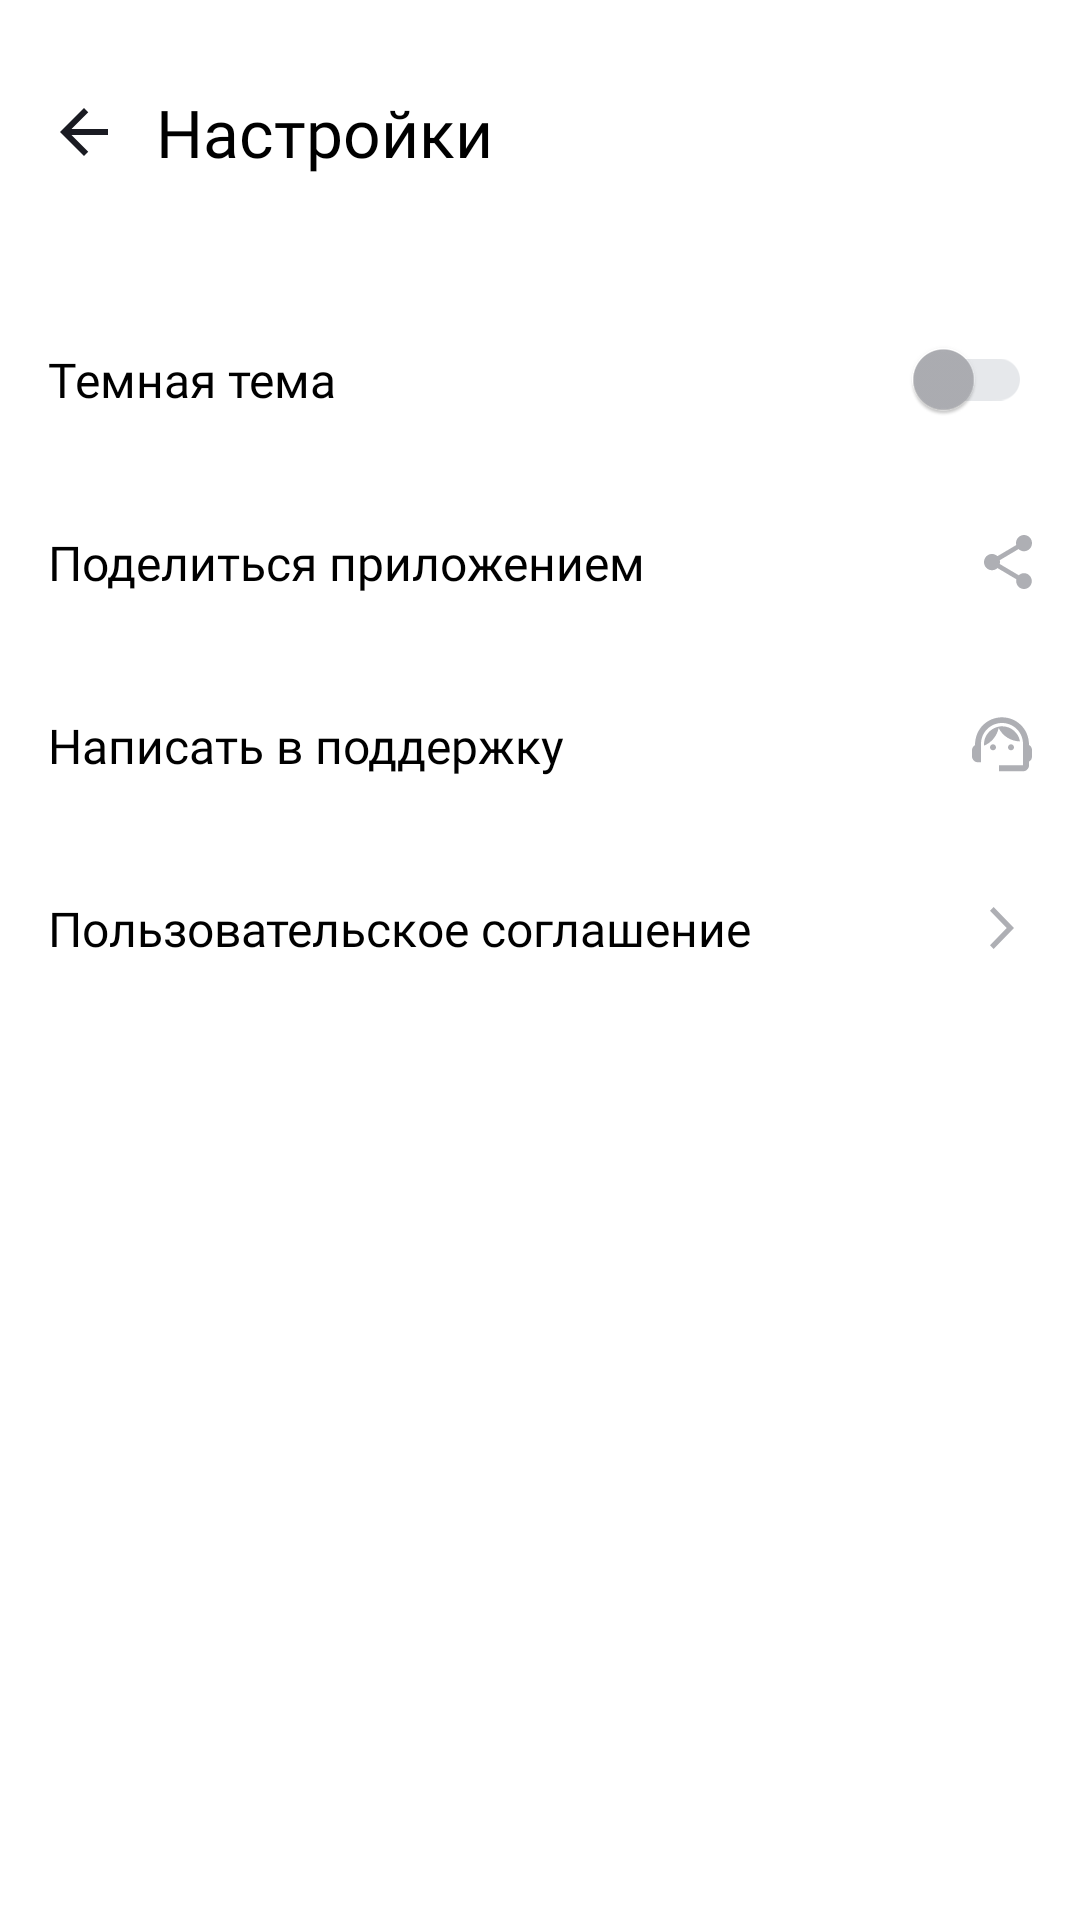

Icon click points for this 1080*1920 phone screenshot, format (x,y):
arrow back: (84,132)
share: (1008,562)
support: (1002,744)
